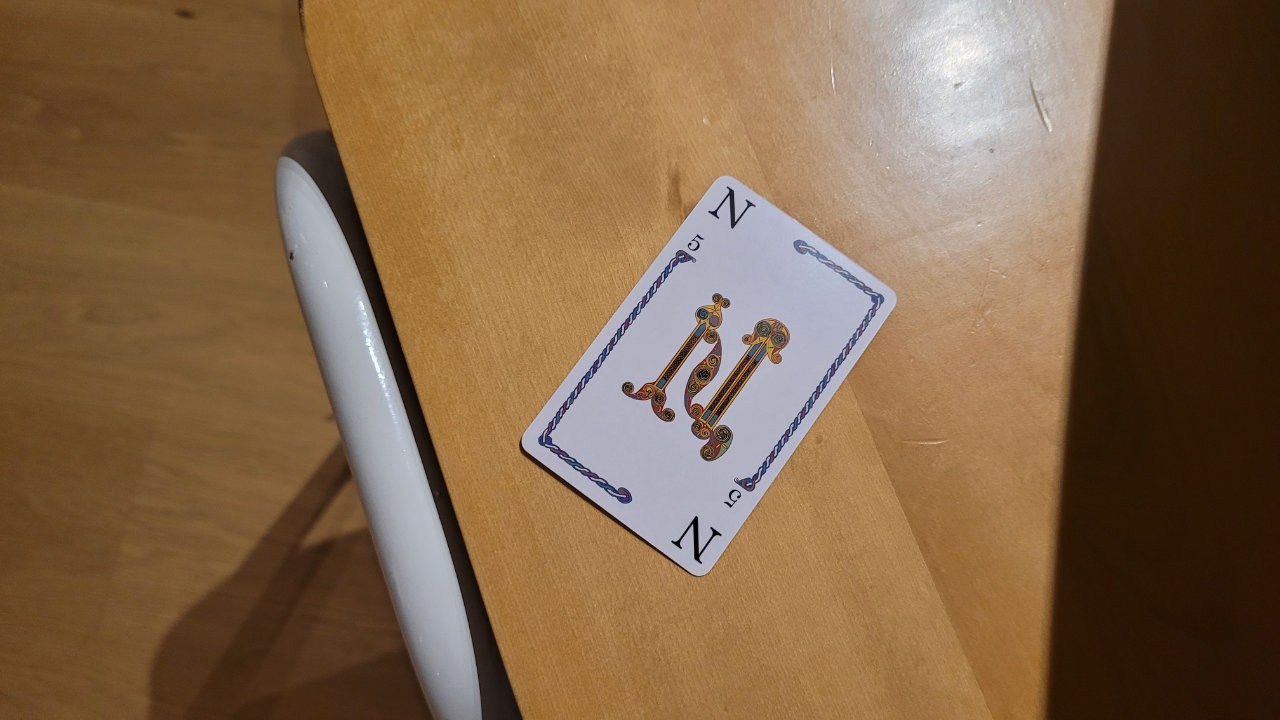quiddler_card: (511, 171, 909, 590)
